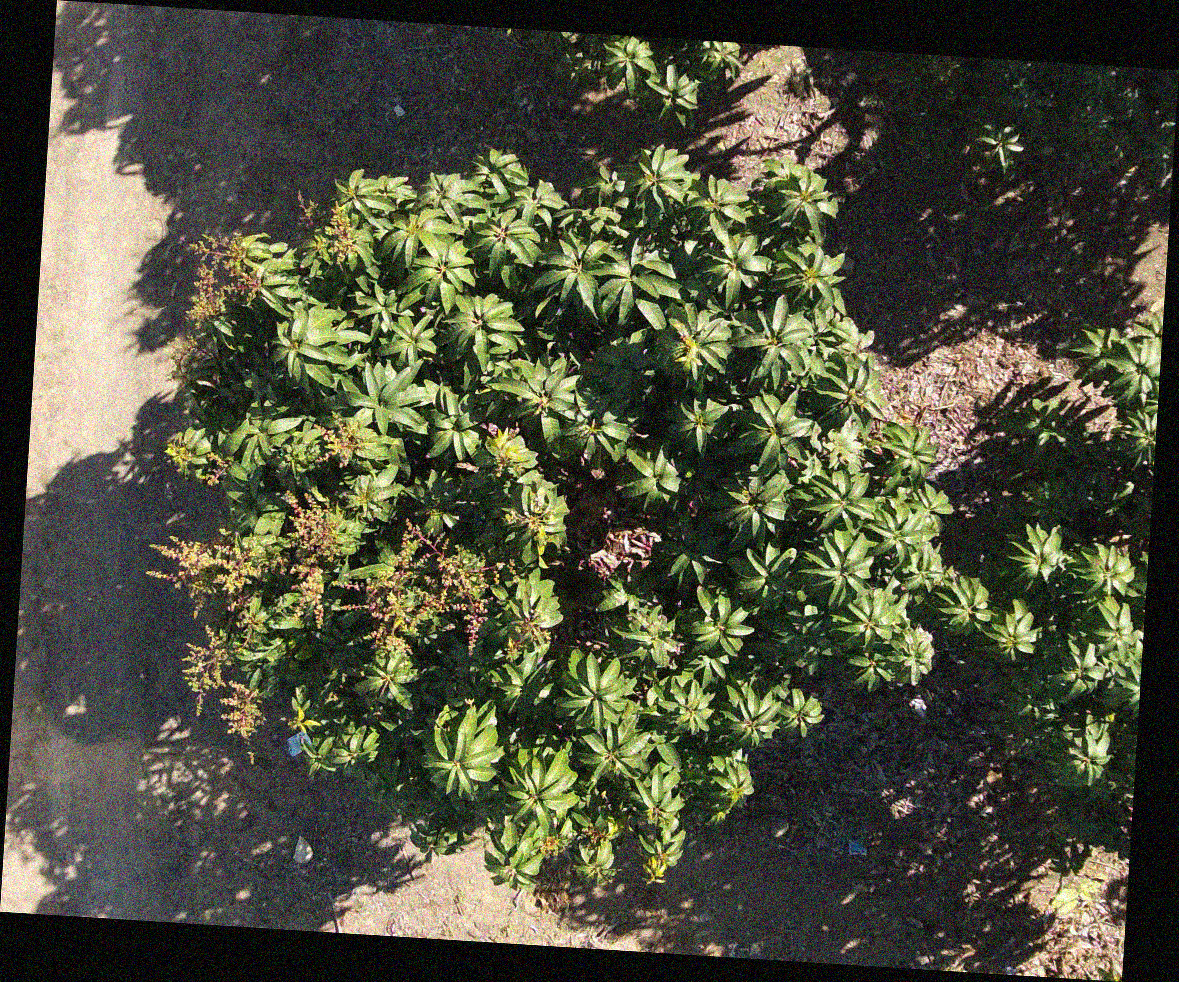flowers: (150, 490, 346, 623), (343, 522, 499, 653), (284, 495, 342, 628), (189, 234, 261, 328), (184, 627, 229, 716), (221, 682, 266, 742), (318, 418, 361, 466), (201, 451, 230, 487), (541, 837, 568, 858)
